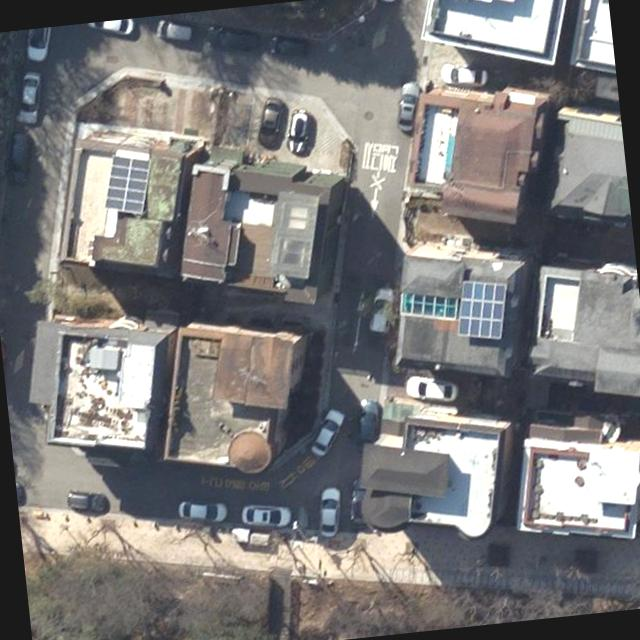solar: (451, 276, 515, 345), (97, 150, 157, 220)
